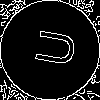U: (25, 25, 77, 69)
